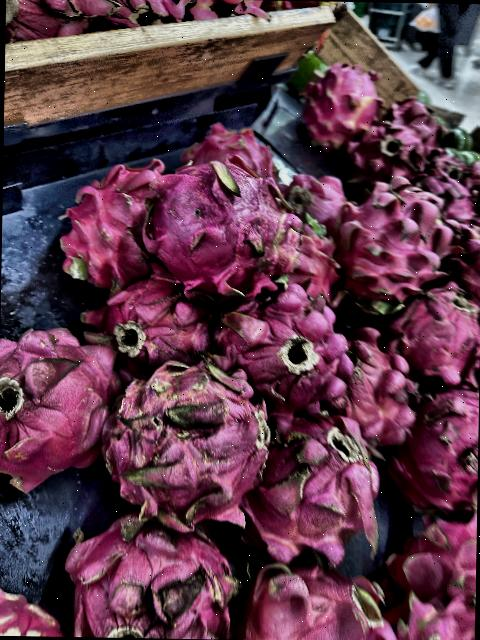buah-naga-belum-matang: (90, 348, 264, 526), (308, 62, 380, 146)
buah-naga-matang: (248, 406, 390, 576), (64, 505, 236, 640), (137, 152, 302, 288), (0, 310, 110, 501), (210, 280, 356, 420), (232, 552, 398, 640), (340, 176, 444, 312), (62, 146, 158, 282), (86, 272, 210, 360), (406, 495, 477, 640), (395, 277, 480, 383), (413, 378, 479, 512), (342, 326, 410, 443), (276, 168, 352, 225), (355, 120, 425, 180), (186, 128, 264, 170)
